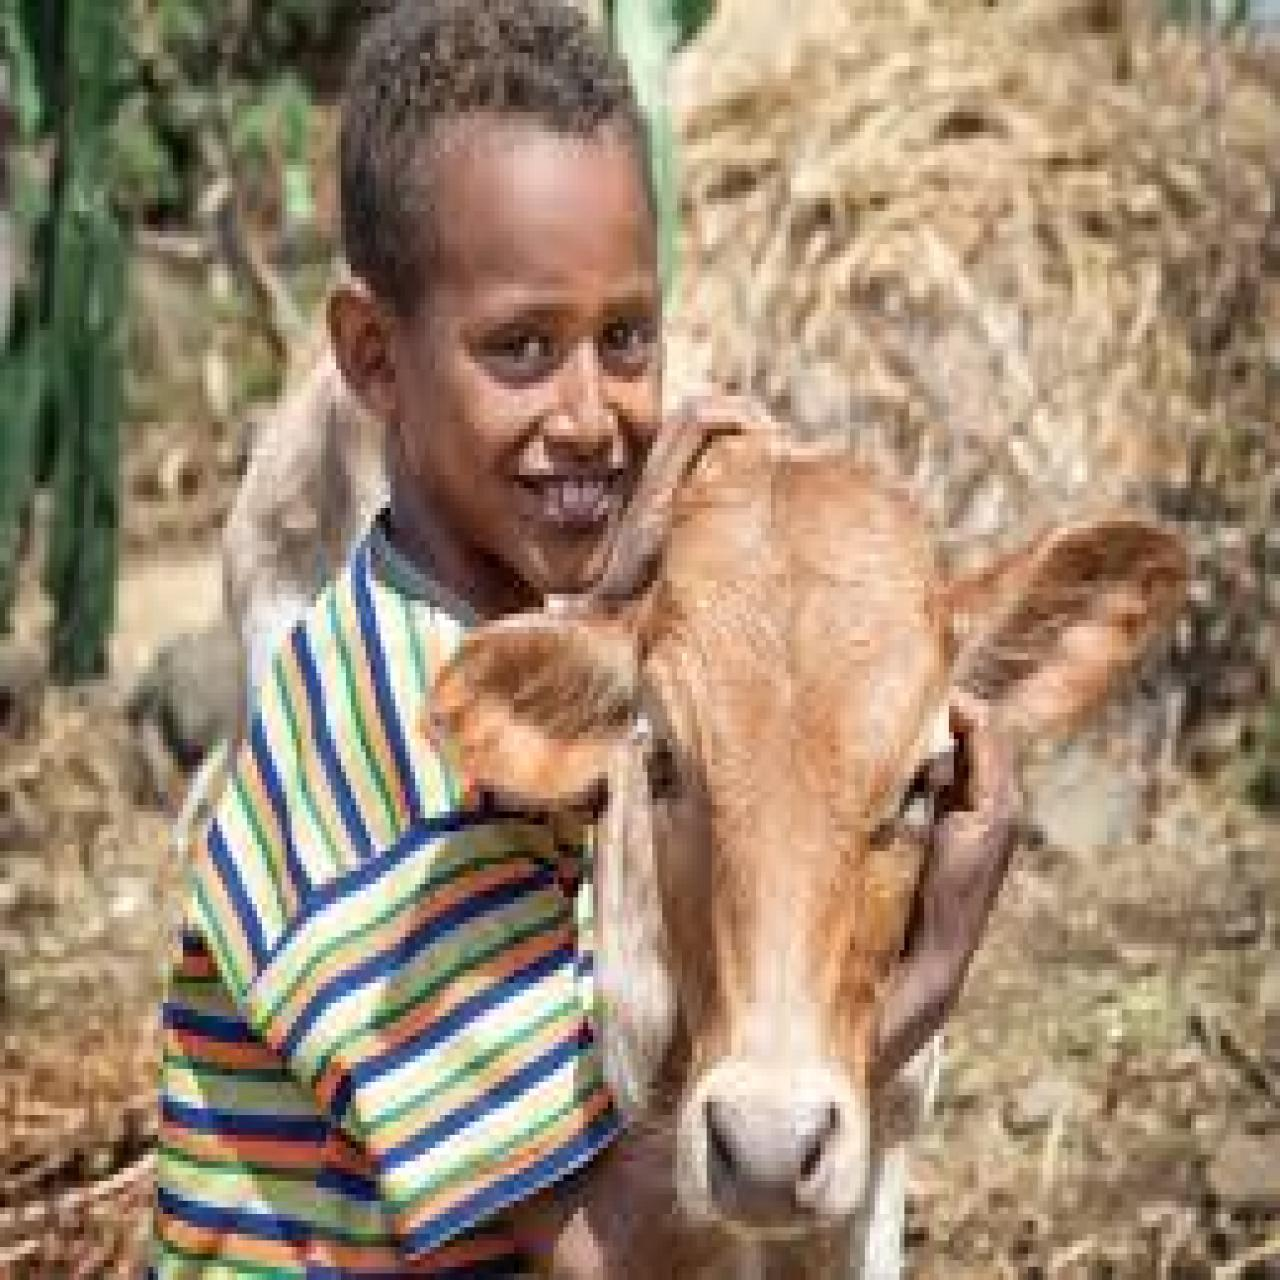cow: (425, 451, 1191, 1251)
